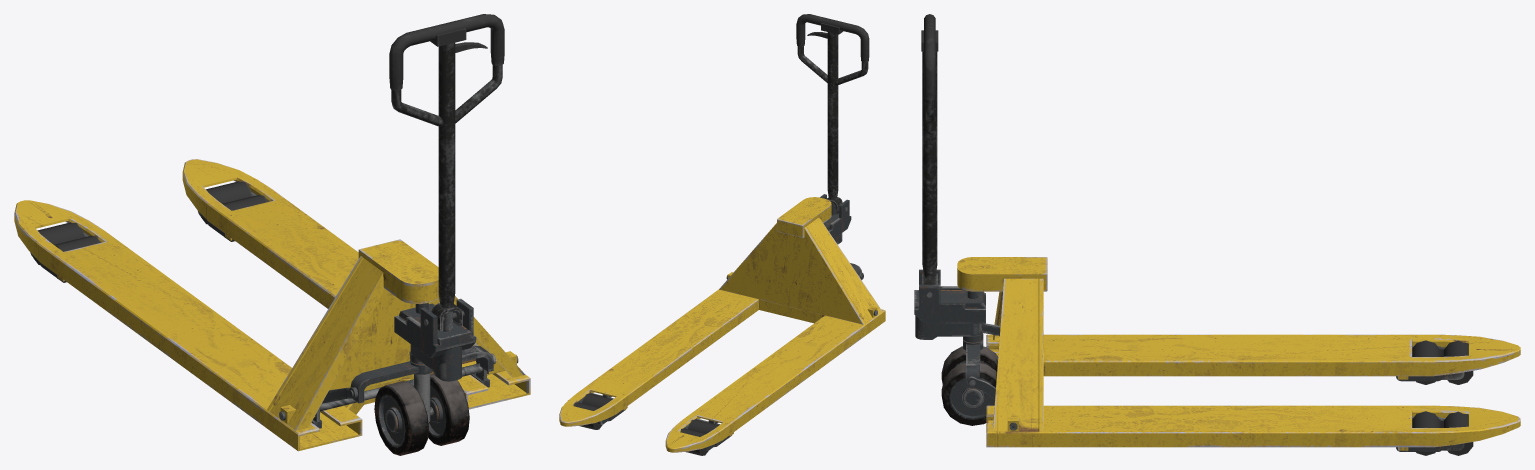
Rendered from PalletTruck.fbx.
3 views of the same model, side by side, from view 1: azimuth 30°, elevation 25°; view 2: azimuth 150°, elevation 25°; view 3: azimuth 270°, elevation 25° (orthographic). The views are drawn at different scales.
Parts seen in each view (by area): view 1: Base, Handle, Wheels, Wheel_Left_1, Wheel_Right_1; view 2: Base, Handle; view 3: Base, Handle, Wheels.
Boxes of the visible parts, <box> form: Base: <box>14,159,530,451</box>; Handle: <box>389,14,504,331</box>; Wheels: <box>374,373,469,455</box>; Wheel_Left_1: <box>33,222,84,264</box>; Wheel_Right_1: <box>201,181,252,224</box>; Base: <box>559,194,885,452</box>; Handle: <box>796,14,869,214</box>; Base: <box>914,257,1520,451</box>; Handle: <box>921,14,938,284</box>; Wheels: <box>941,346,998,425</box>.
Bounding box in the file's own units: 76.81 × 138 × 198.
1 material, 1 textured.
